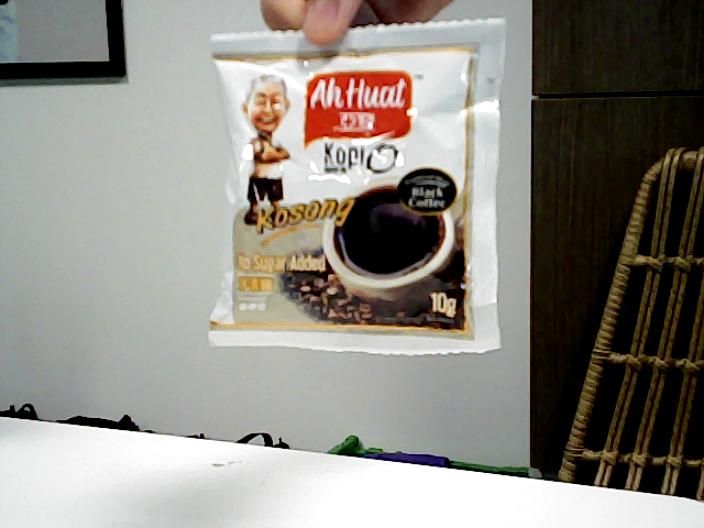Adult_Milk_0-99g_Halal_NonHealthy: (228, 28, 494, 348)
